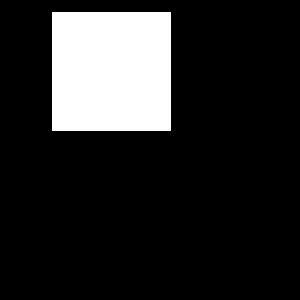circle: (52, 12, 171, 131)
